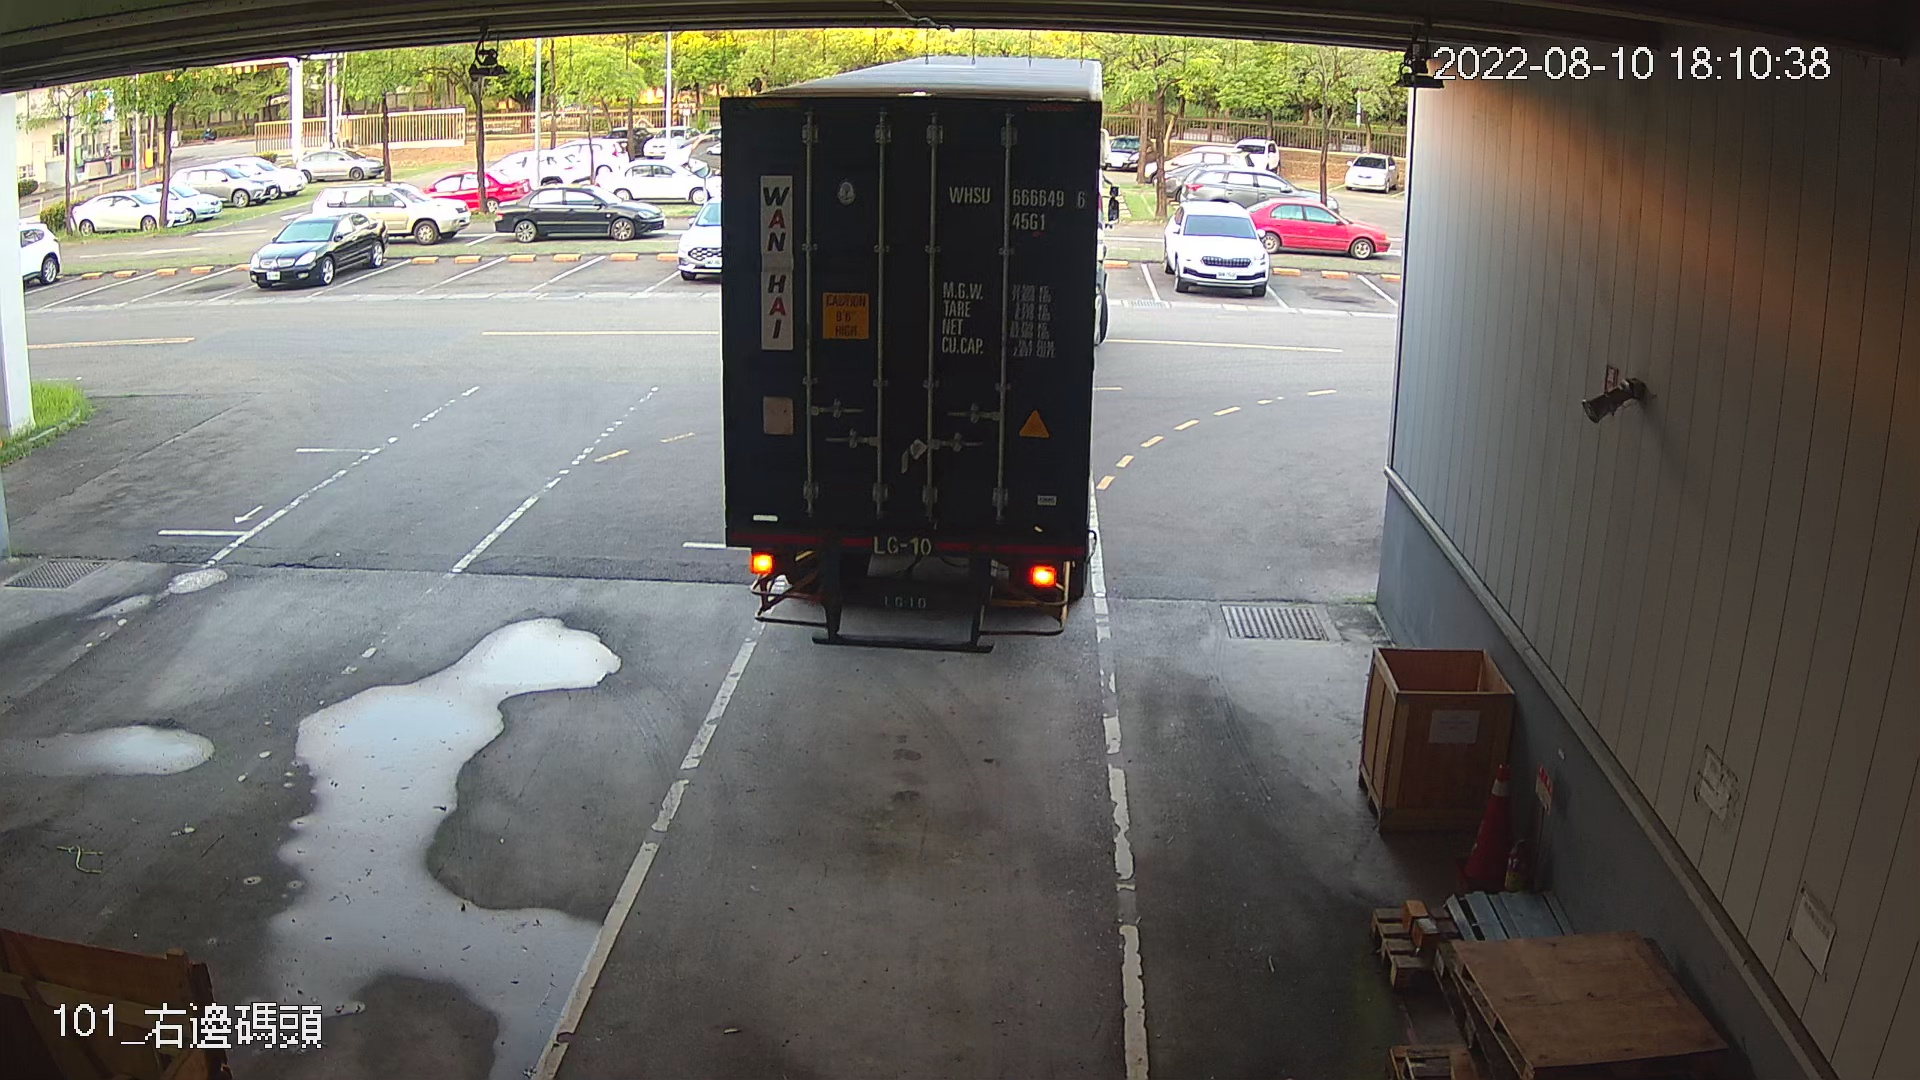container: (944, 174, 1092, 235)
